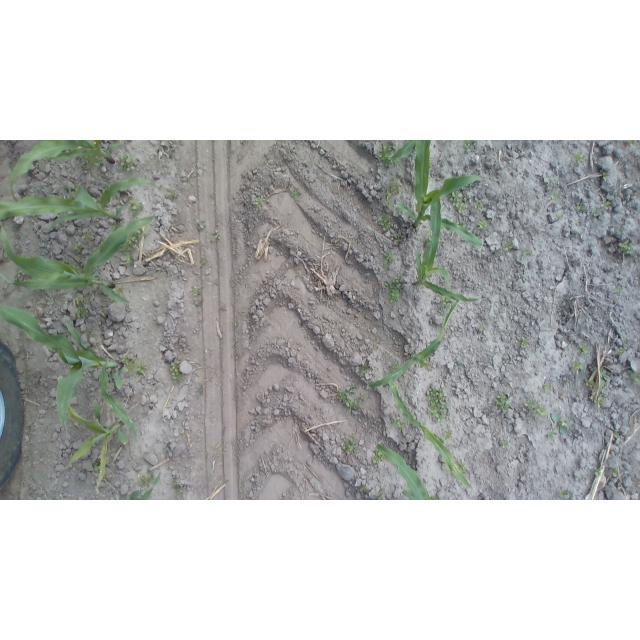Maize: (1, 304, 140, 440), (0, 217, 154, 308), (397, 141, 484, 250), (390, 381, 474, 492), (371, 299, 459, 389), (0, 175, 150, 227), (413, 201, 483, 304), (8, 140, 126, 200), (65, 399, 129, 491), (377, 442, 430, 500), (127, 472, 160, 500), (383, 140, 415, 160)
Weeds: (425, 387, 449, 423), (118, 229, 147, 255), (549, 412, 574, 440), (338, 384, 362, 413), (376, 144, 401, 168), (385, 277, 404, 304), (524, 398, 549, 418), (448, 191, 468, 213), (386, 179, 403, 202), (342, 434, 359, 454), (495, 392, 511, 413), (121, 353, 137, 373), (169, 361, 184, 382), (137, 473, 159, 487), (118, 154, 135, 172), (74, 297, 87, 320), (129, 199, 144, 218), (83, 154, 101, 169), (601, 370, 612, 393), (378, 213, 392, 231), (455, 459, 469, 477), (618, 241, 634, 256), (371, 448, 385, 465), (628, 369, 640, 387), (392, 417, 405, 433), (573, 152, 587, 165), (571, 360, 585, 373), (252, 197, 264, 210), (136, 364, 149, 376), (578, 342, 591, 354), (383, 252, 394, 265), (111, 285, 125, 295), (424, 230, 433, 245), (72, 242, 84, 253), (477, 219, 488, 231), (441, 295, 451, 308), (593, 396, 603, 408), (358, 364, 368, 376), (551, 192, 561, 204), (585, 380, 595, 391), (195, 219, 206, 229), (456, 219, 467, 229), (464, 140, 473, 152), (291, 189, 301, 199), (601, 200, 611, 210), (503, 241, 512, 252), (556, 213, 565, 224), (111, 221, 123, 229), (124, 256, 136, 264), (377, 488, 385, 500), (474, 200, 482, 212), (391, 362, 400, 372), (593, 466, 602, 476), (444, 429, 452, 440), (192, 286, 201, 295), (395, 233, 403, 243), (92, 461, 100, 471), (612, 466, 619, 477), (544, 384, 552, 393), (500, 440, 508, 449), (599, 169, 607, 178), (616, 347, 624, 356), (360, 487, 370, 494), (521, 250, 531, 257), (560, 492, 569, 499), (215, 229, 221, 239), (626, 140, 636, 146), (81, 234, 89, 241), (477, 324, 484, 332), (520, 340, 528, 347), (194, 301, 202, 308), (592, 210, 600, 217), (167, 191, 176, 197), (615, 286, 622, 293), (578, 204, 585, 211), (430, 496, 439, 501), (613, 432, 619, 439), (171, 483, 177, 488), (439, 312, 443, 317), (622, 228, 625, 232)
